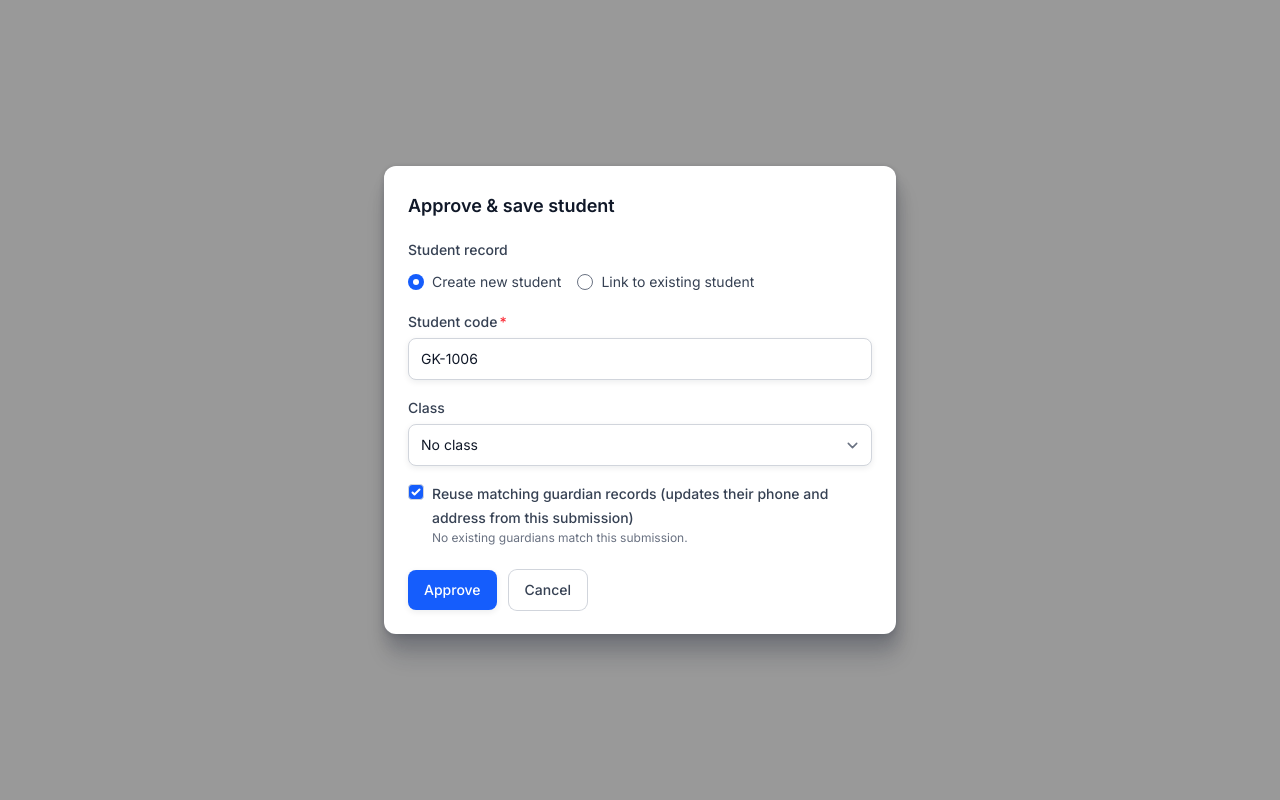
Test case: RegistrationApproveDialog › disables Approve in link mode until a student is selected
Click the radio button labelled "Link to existing student" at (585, 282), box [577, 274, 593, 290]
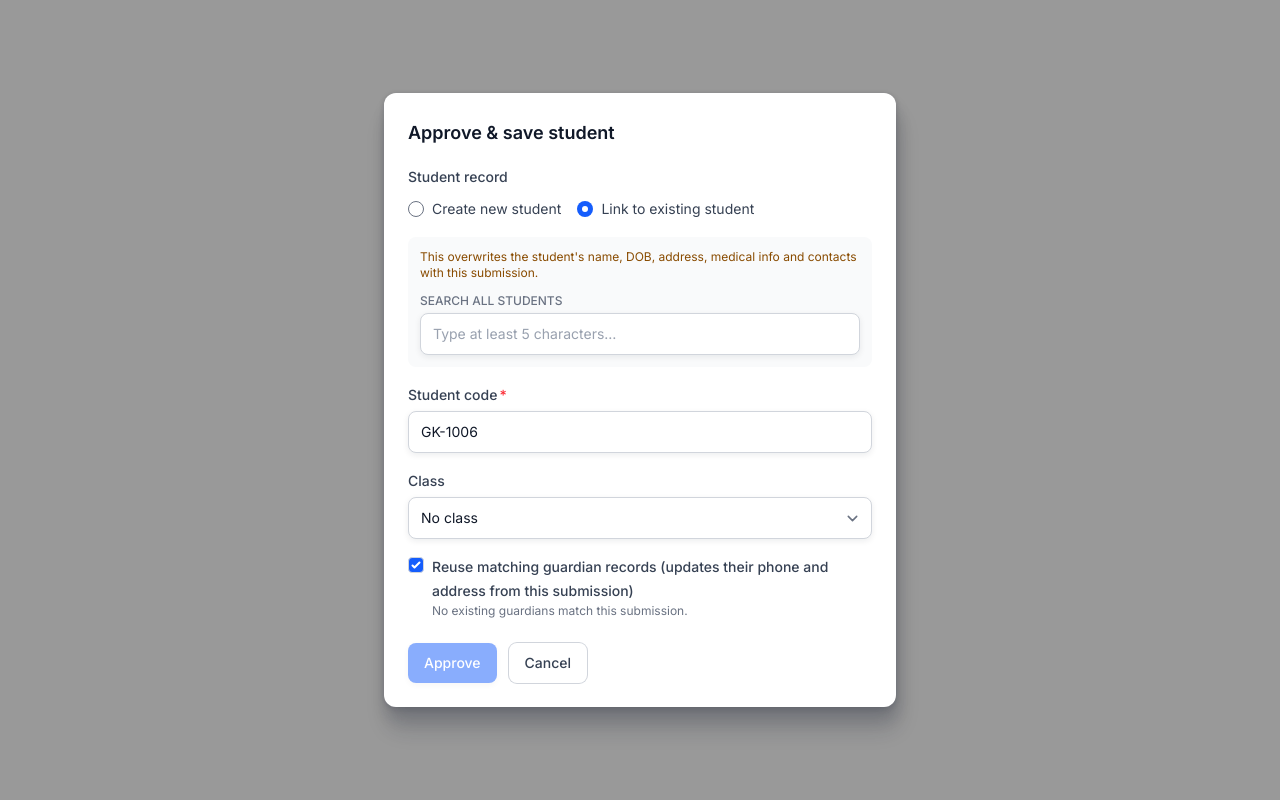
Expected: the button "Approve" is disabled, [408, 643, 497, 683]
